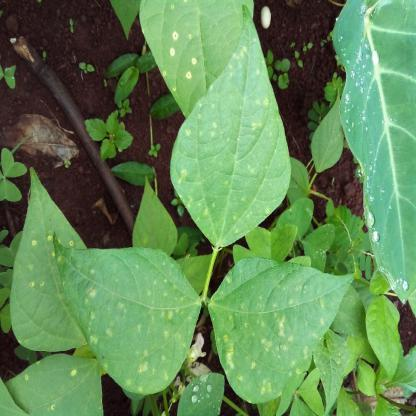Beans_Rust: (168, 7, 291, 242), (48, 226, 192, 396), (210, 258, 354, 402), (11, 170, 89, 348), (139, 0, 253, 116), (9, 353, 106, 416)
